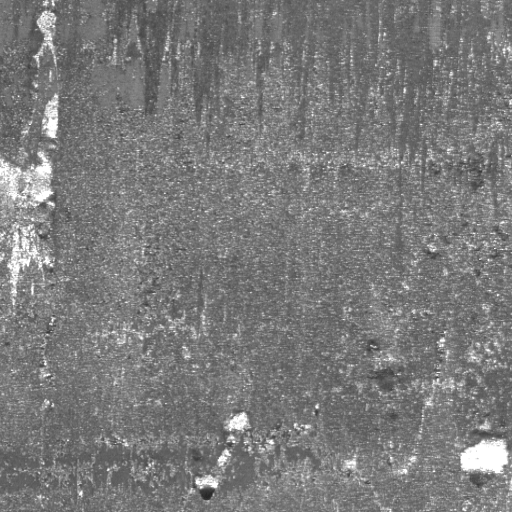qiaopi: (1, 9, 64, 302), (193, 408, 253, 503), (457, 434, 510, 490)
